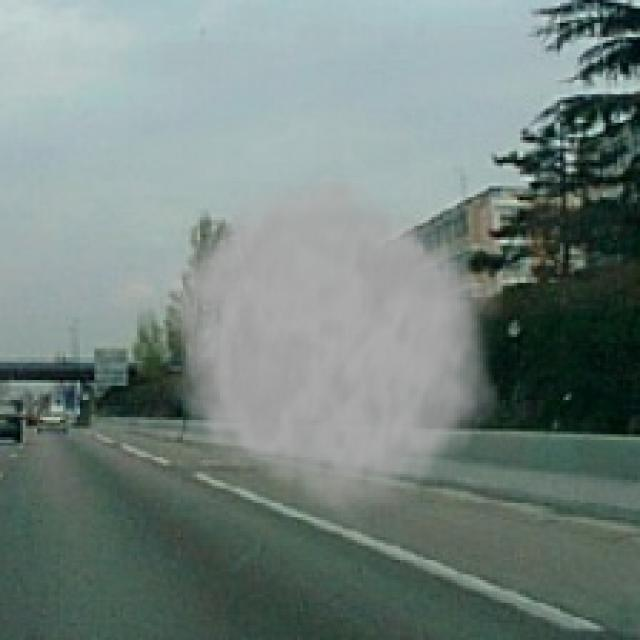smoke: (148, 163, 503, 528)
